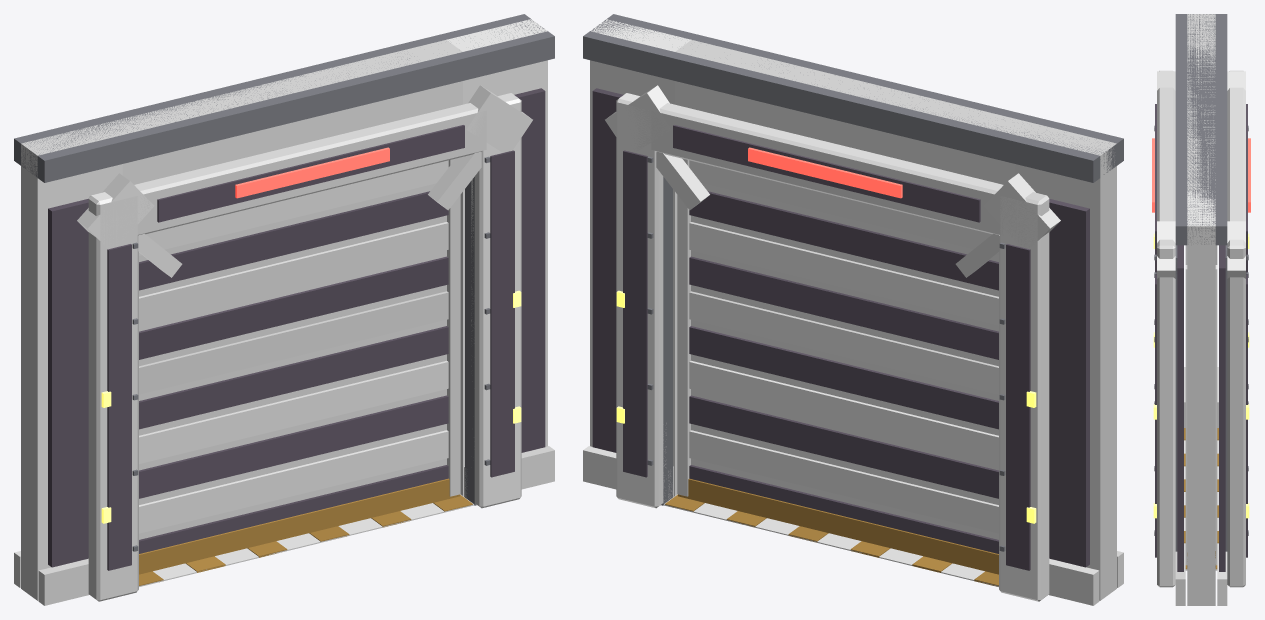
Rendered from Gate_Shutter.fbx.
3 views of the same model, side by side, from view 1: azimuth 30°, elevation 25°; view 2: azimuth 150°, elevation 25°; view 3: azimuth 270°, elevation 25° (orthographic). The views are drawn at different scales.
Visible parts, largest first — view 1: Gate_Shutter, Gate_Shutter_Leaf_Down; view 2: Gate_Shutter, Gate_Shutter_Leaf_Down; view 3: Gate_Shutter, Gate_Shutter_Leaf_Down.
Boxes of the visible parts, <box> form: Gate_Shutter: <box>14,14,554,605</box>; Gate_Shutter_Leaf_Down: <box>139,158,460,574</box>; Gate_Shutter: <box>583,14,1123,605</box>; Gate_Shutter_Leaf_Down: <box>677,158,998,574</box>; Gate_Shutter: <box>1152,14,1250,605</box>; Gate_Shutter_Leaf_Down: <box>1185,245,1217,567</box>.
Bounding box in the file's own units: 6 × 5 × 1.18.
